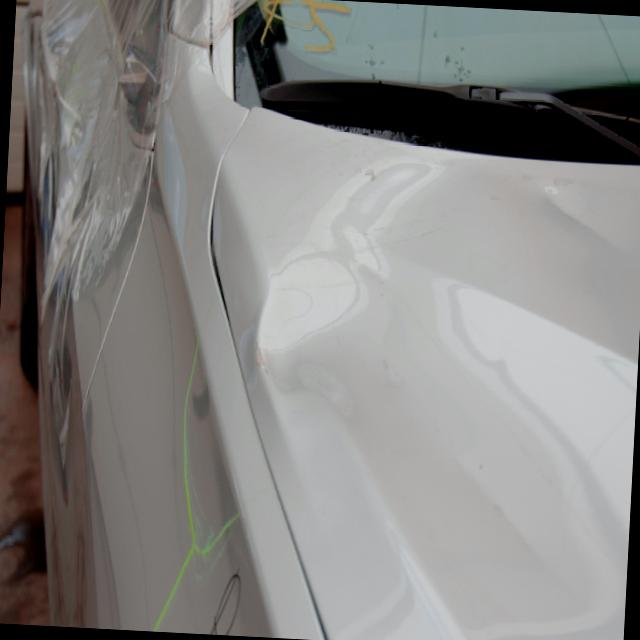Cabossage: (242, 219, 405, 475)
